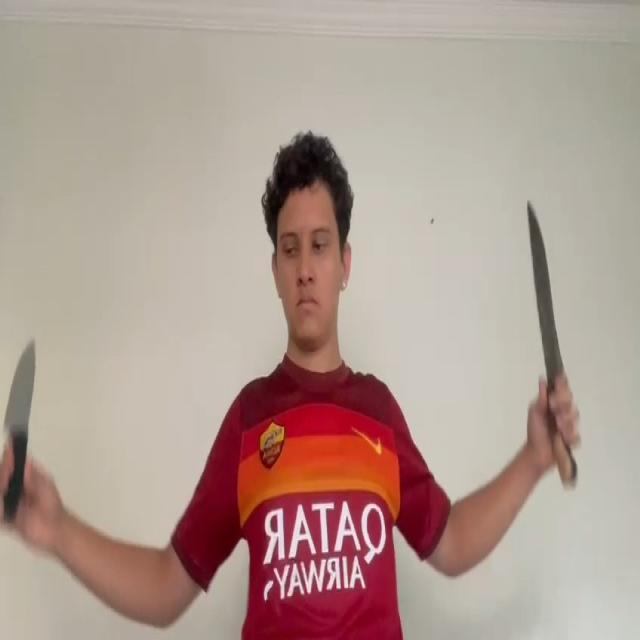knife: (527, 201, 562, 376), (2, 338, 37, 433)
